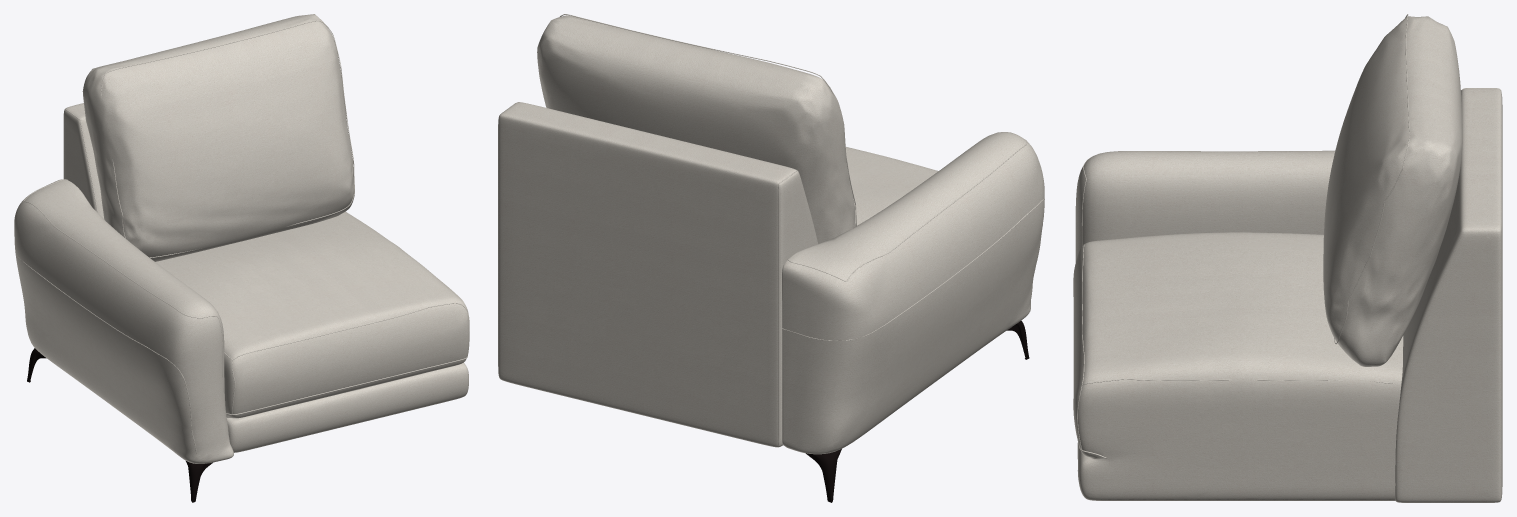
Rendered from arm.glb.
The picture shows the model from 3 angles, left to right: view 1: azimuth 30°, elevation 25°; view 2: azimuth 150°, elevation 25°; view 3: azimuth 270°, elevation 25°; orthographic projection. The views are drawn at different scales.
Parts seen in each view (by area): view 1: D=~ 0,00 m, pé; view 2: D=~ 0,00 m, pé; view 3: D=~ 0,00 m.
Boxes of the visible parts, left/top/right/bottom form: D=~ 0,00 m: left=14, top=14, right=469, bottom=463; pé: left=27, top=348, right=212, bottom=502; D=~ 0,00 m: left=498, top=14, right=1044, bottom=454; pé: left=806, top=320, right=1029, bottom=502; D=~ 0,00 m: left=1073, top=14, right=1502, bottom=502.
Bounding box in the file's own units: 1.02 × 1.05 × 1.03.
Materials: 3 (1 with a texture image).
